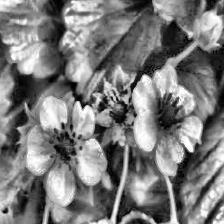Blossom Blight: (44, 120, 86, 174), (151, 91, 185, 139), (104, 88, 132, 130)
